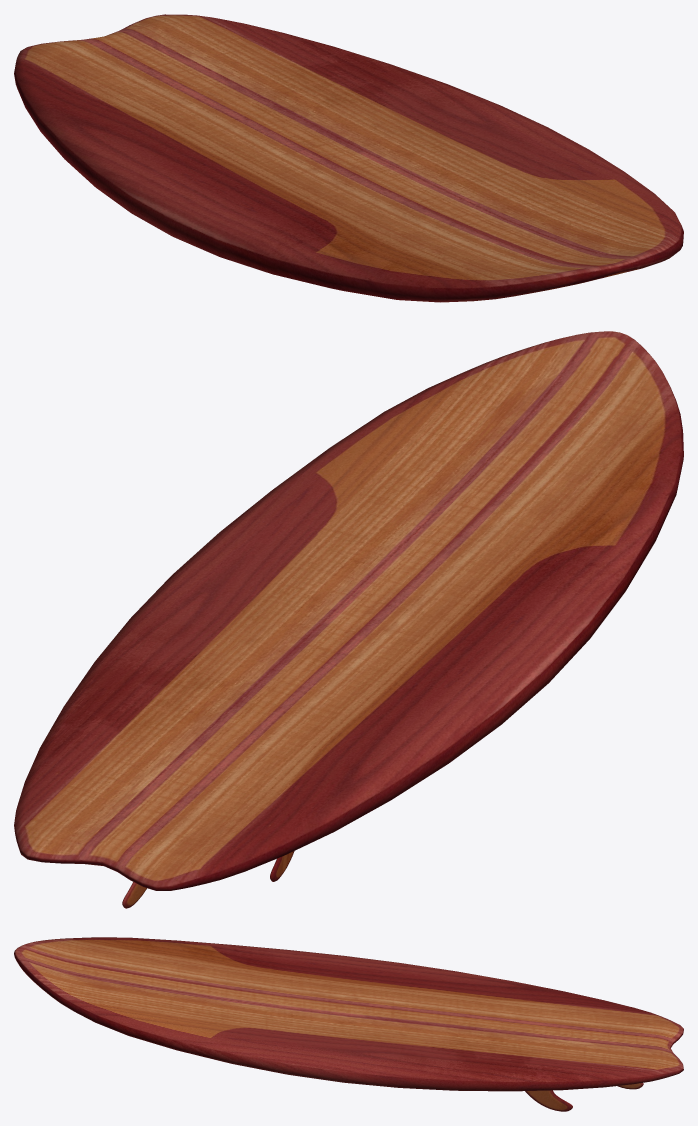
File: surf.glb
3 views of the same model, one above another, from view 1: azimuth 30°, elevation 25°; view 2: azimuth 150°, elevation 25°; view 3: azimuth 270°, elevation 25° (orthographic). The views are drawn at different scales.
Visible parts, largest first — view 1: Tabla_Tabla de surf_0; view 2: Tabla_Tabla de surf_0; view 3: Tabla_Tabla de surf_0.
Boxes of the visible parts, x1,y1,x2,y2 form: Tabla_Tabla de surf_0: [14, 14, 683, 302]; Tabla_Tabla de surf_0: [14, 331, 683, 908]; Tabla_Tabla de surf_0: [14, 937, 683, 1111].
Size of the model in its own units: 2.28 by 1.24 by 5.49.
Materials: 1 (1 with a texture image).
